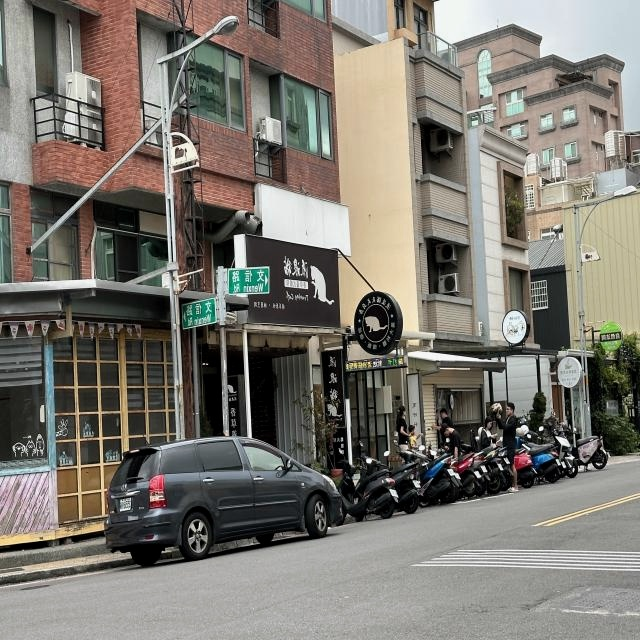Sin_Casco_Mascarrilla: (439, 423, 449, 437), (484, 415, 492, 430), (506, 402, 514, 416), (397, 406, 406, 418), (440, 408, 447, 420)
